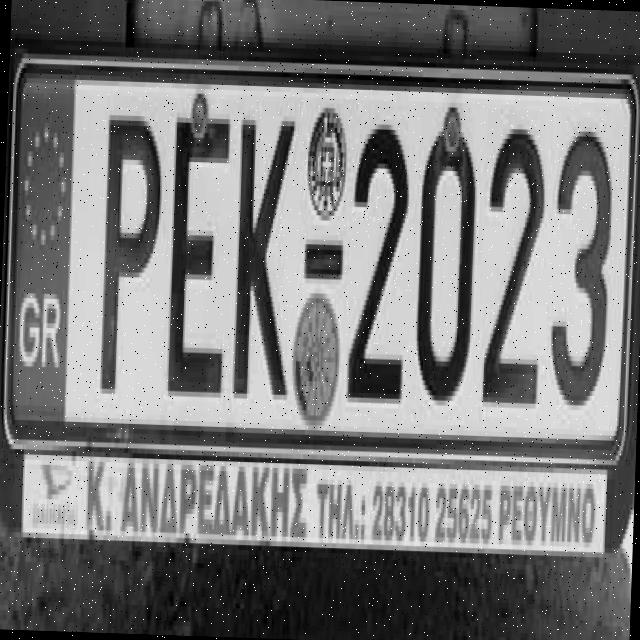EU: (8, 55, 639, 462)
Grece: (7, 76, 78, 422)
